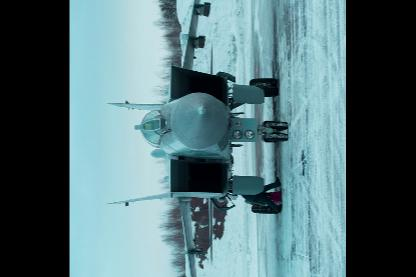Mig31: (104, 0, 289, 276)
